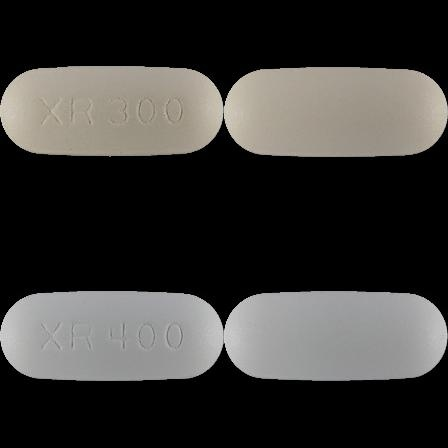0310-0283: (0, 0, 224, 224)
